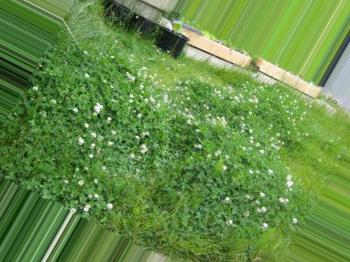patch: (221, 48, 236, 62), (192, 36, 206, 48)
